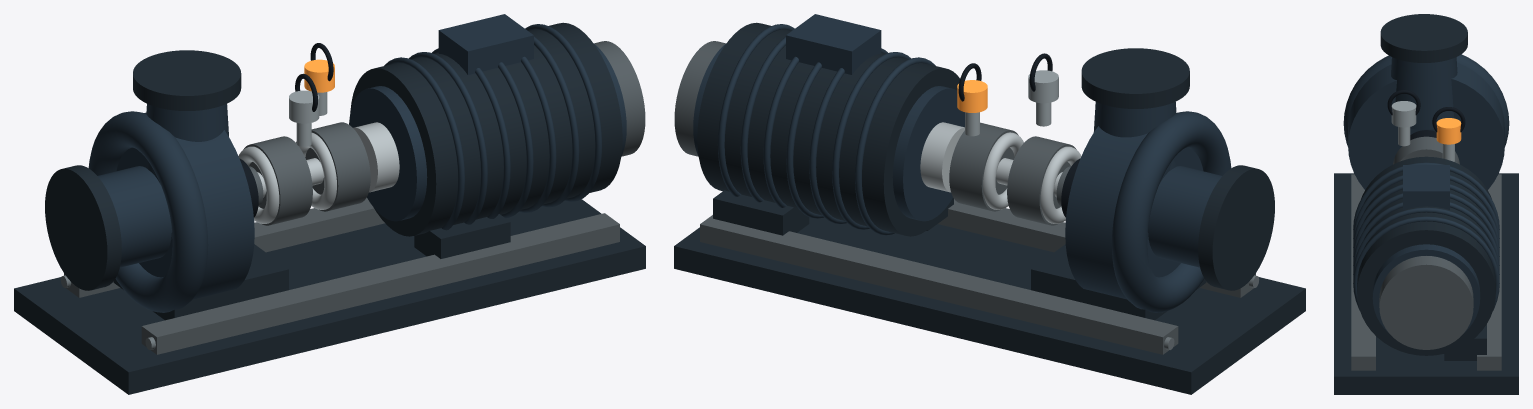
The model's file is pump-core-source-v1.glb.
3 renders of one model, left to right at view 1: azimuth 30°, elevation 25°; view 2: azimuth 150°, elevation 25°; view 3: azimuth 270°, elevation 25°, orthographic. The views are drawn at different scales.
Parts seen in each view (by area): view 1: baseplate, motor, volute, bearing_front, bearing_rear, coupling, sensor_vibration, sensor_temperature, shaft; view 2: baseplate, motor, volute, bearing_front, bearing_rear, coupling, sensor_vibration, sensor_temperature, shaft; view 3: motor, volute, baseplate, sensor_vibration, sensor_temperature, bearing_front, mechanical_seal.
Part boxes in pixels (left/top/right/bottom): baseplate: left=14, top=197, right=645, bottom=394; motor: left=349, top=14, right=645, bottom=258; volute: left=45, top=50, right=288, bottom=320; bearing_front: left=238, top=136, right=312, bottom=225; bearing_rear: left=296, top=122, right=370, bottom=211; coupling: left=353, top=122, right=399, bottom=192; sensor_vibration: left=289, top=73, right=319, bottom=146; sensor_temperature: left=304, top=43, right=334, bottom=115; shaft: left=249, top=158, right=323, bottom=206; baseplate: left=674, top=199, right=1305, bottom=394; motor: left=674, top=14, right=964, bottom=236; volute: left=1031, top=48, right=1274, bottom=320; bearing_front: left=1007, top=136, right=1081, bottom=225; bearing_rear: left=949, top=122, right=1023, bottom=211; coupling: left=920, top=122, right=964, bottom=192; sensor_vibration: left=1028, top=53, right=1058, bottom=126; sensor_temperature: left=957, top=63, right=987, bottom=136; shaft: left=996, top=158, right=1070, bottom=206; motor: left=1353, top=156, right=1499, bottom=360; volute: left=1343, top=14, right=1509, bottom=189; baseplate: left=1334, top=173, right=1518, bottom=394; sensor_vibration: left=1387, top=90, right=1420, bottom=146; sensor_temperature: left=1432, top=107, right=1465, bottom=161; bearing_front: left=1393, top=136, right=1459, bottom=164; mechanical_seal: left=1410, top=130, right=1436, bottom=140.
Bounding box in the file's own units: 4.53 × 2.01 × 1.65.
